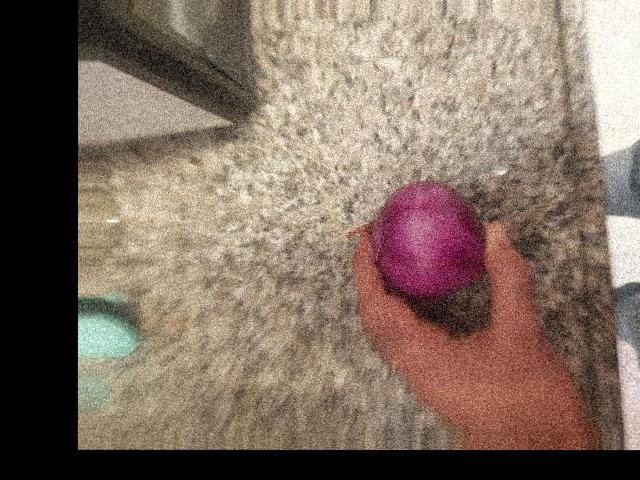onion: (274, 34, 393, 156)
